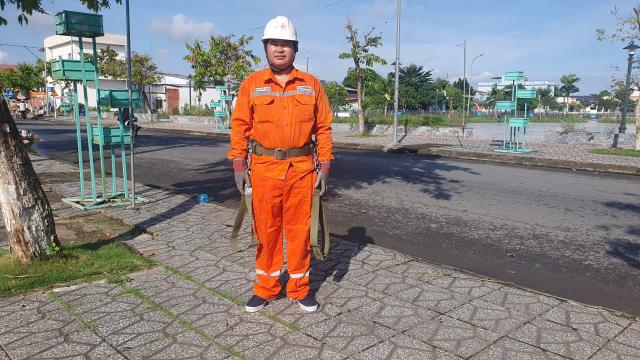gloves: (222, 158, 264, 198), (316, 162, 334, 197)
harness: (236, 133, 322, 158)
helmet: (252, 14, 310, 50)
shoes: (235, 276, 280, 321), (287, 280, 322, 314)
